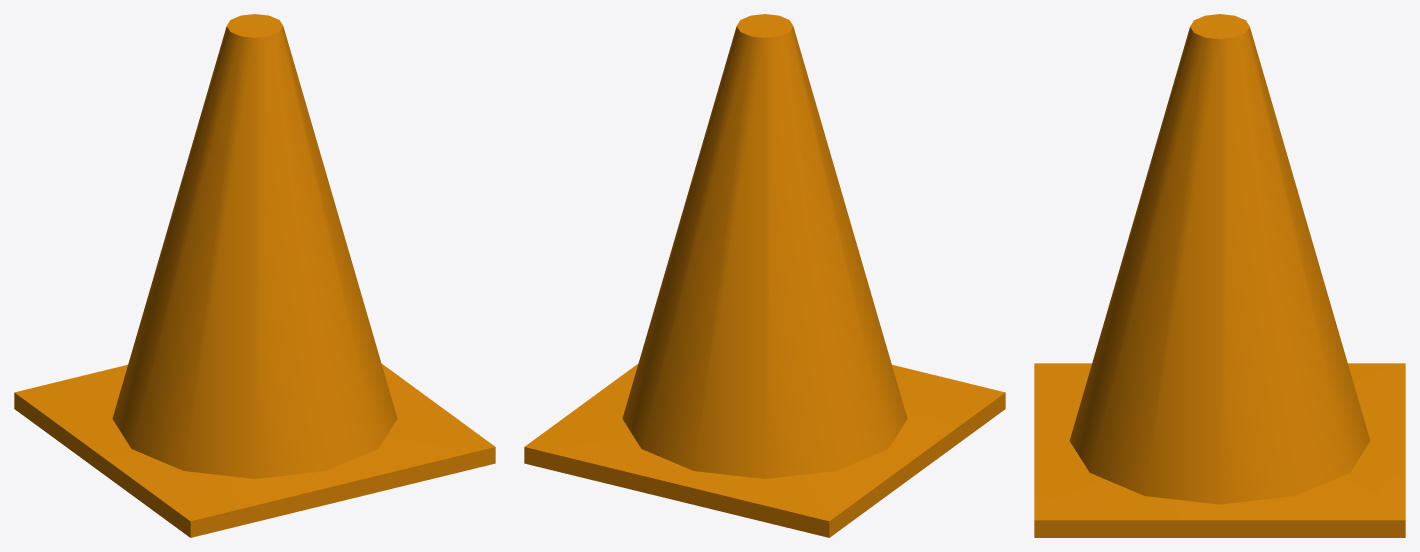
Rendered from CircuitLaunchCone.fbx.
3 views of the same model, side by side, from view 1: azimuth 30°, elevation 25°; view 2: azimuth 150°, elevation 25°; view 3: azimuth 270°, elevation 25° (orthographic). The views are drawn at different scales.
Visible parts, largest first — view 1: CircuitLaunchCone; view 2: CircuitLaunchCone; view 3: CircuitLaunchCone.
Part boxes in pixels (box(x1,y1,x2,y2)): CircuitLaunchCone: box(14, 14, 495, 537); CircuitLaunchCone: box(524, 14, 1005, 537); CircuitLaunchCone: box(1034, 14, 1405, 537).
Bounding box in the file's own units: 15.77 × 20.26 × 15.77.
